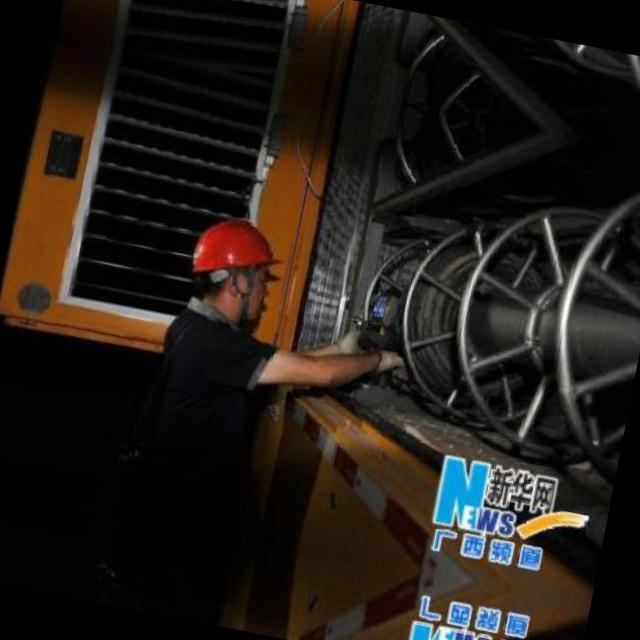helmet: (178, 201, 290, 324)
